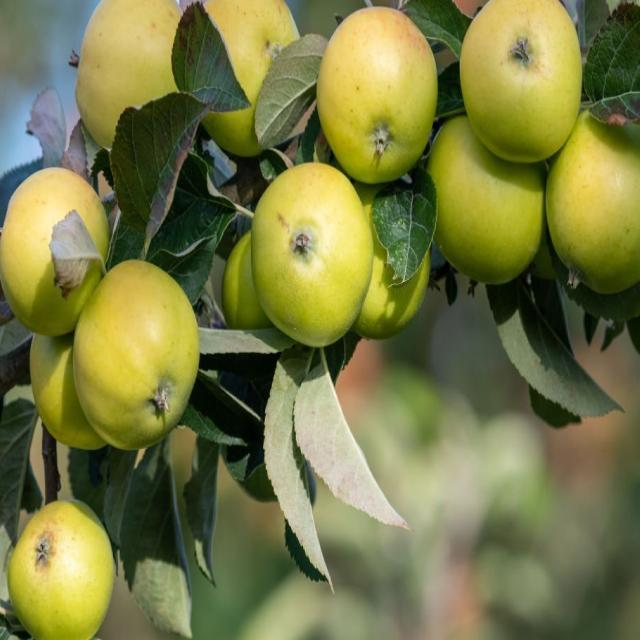Green Apple: (256, 165, 368, 347), (86, 259, 183, 454), (1, 163, 112, 327), (328, 6, 436, 173), (465, 1, 581, 154), (426, 119, 538, 272), (11, 486, 118, 638), (557, 101, 640, 292), (72, 1, 182, 138), (197, 1, 298, 146), (351, 180, 436, 316), (23, 314, 102, 458), (220, 232, 280, 340), (33, 602, 129, 640)
